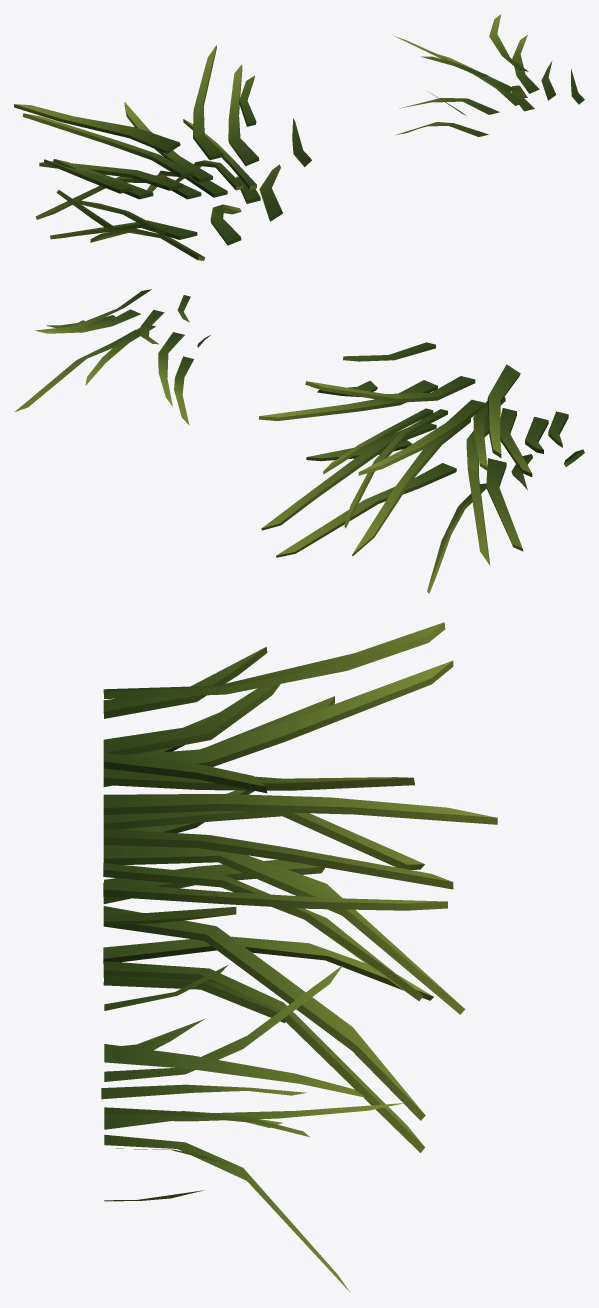
File: Grassfix.fbx
3 renders of one model, top to bottom at view 1: azimuth 30°, elevation 25°; view 2: azimuth 150°, elevation 25°; view 3: azimuth 270°, elevation 25°, orthographic. The views are drawn at different scales.
Parts seen in each view (by area): view 1: Grass_Large_Extruded, Grass_Small; view 2: Grass_Large_Extruded, Grass_Small; view 3: Grass_Large_Extruded, Grass_Small.
Boxes of the visible parts, x1,y1,x2,y2 form: Grass_Large_Extruded: [14, 45, 311, 260]; Grass_Small: [393, 14, 584, 136]; Grass_Large_Extruded: [258, 342, 584, 593]; Grass_Small: [15, 289, 210, 425]; Grass_Large_Extruded: [103, 622, 497, 1152]; Grass_Small: [101, 965, 404, 1292].
Bounding box in the file's own units: 153 × 49.73 × 51.12.
